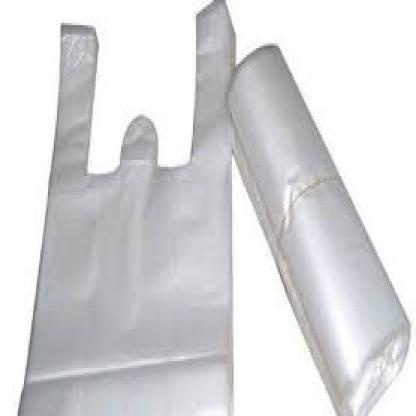trash: (19, 0, 234, 415), (0, 0, 210, 415), (227, 0, 415, 415), (227, 45, 409, 415), (233, 162, 333, 415)
